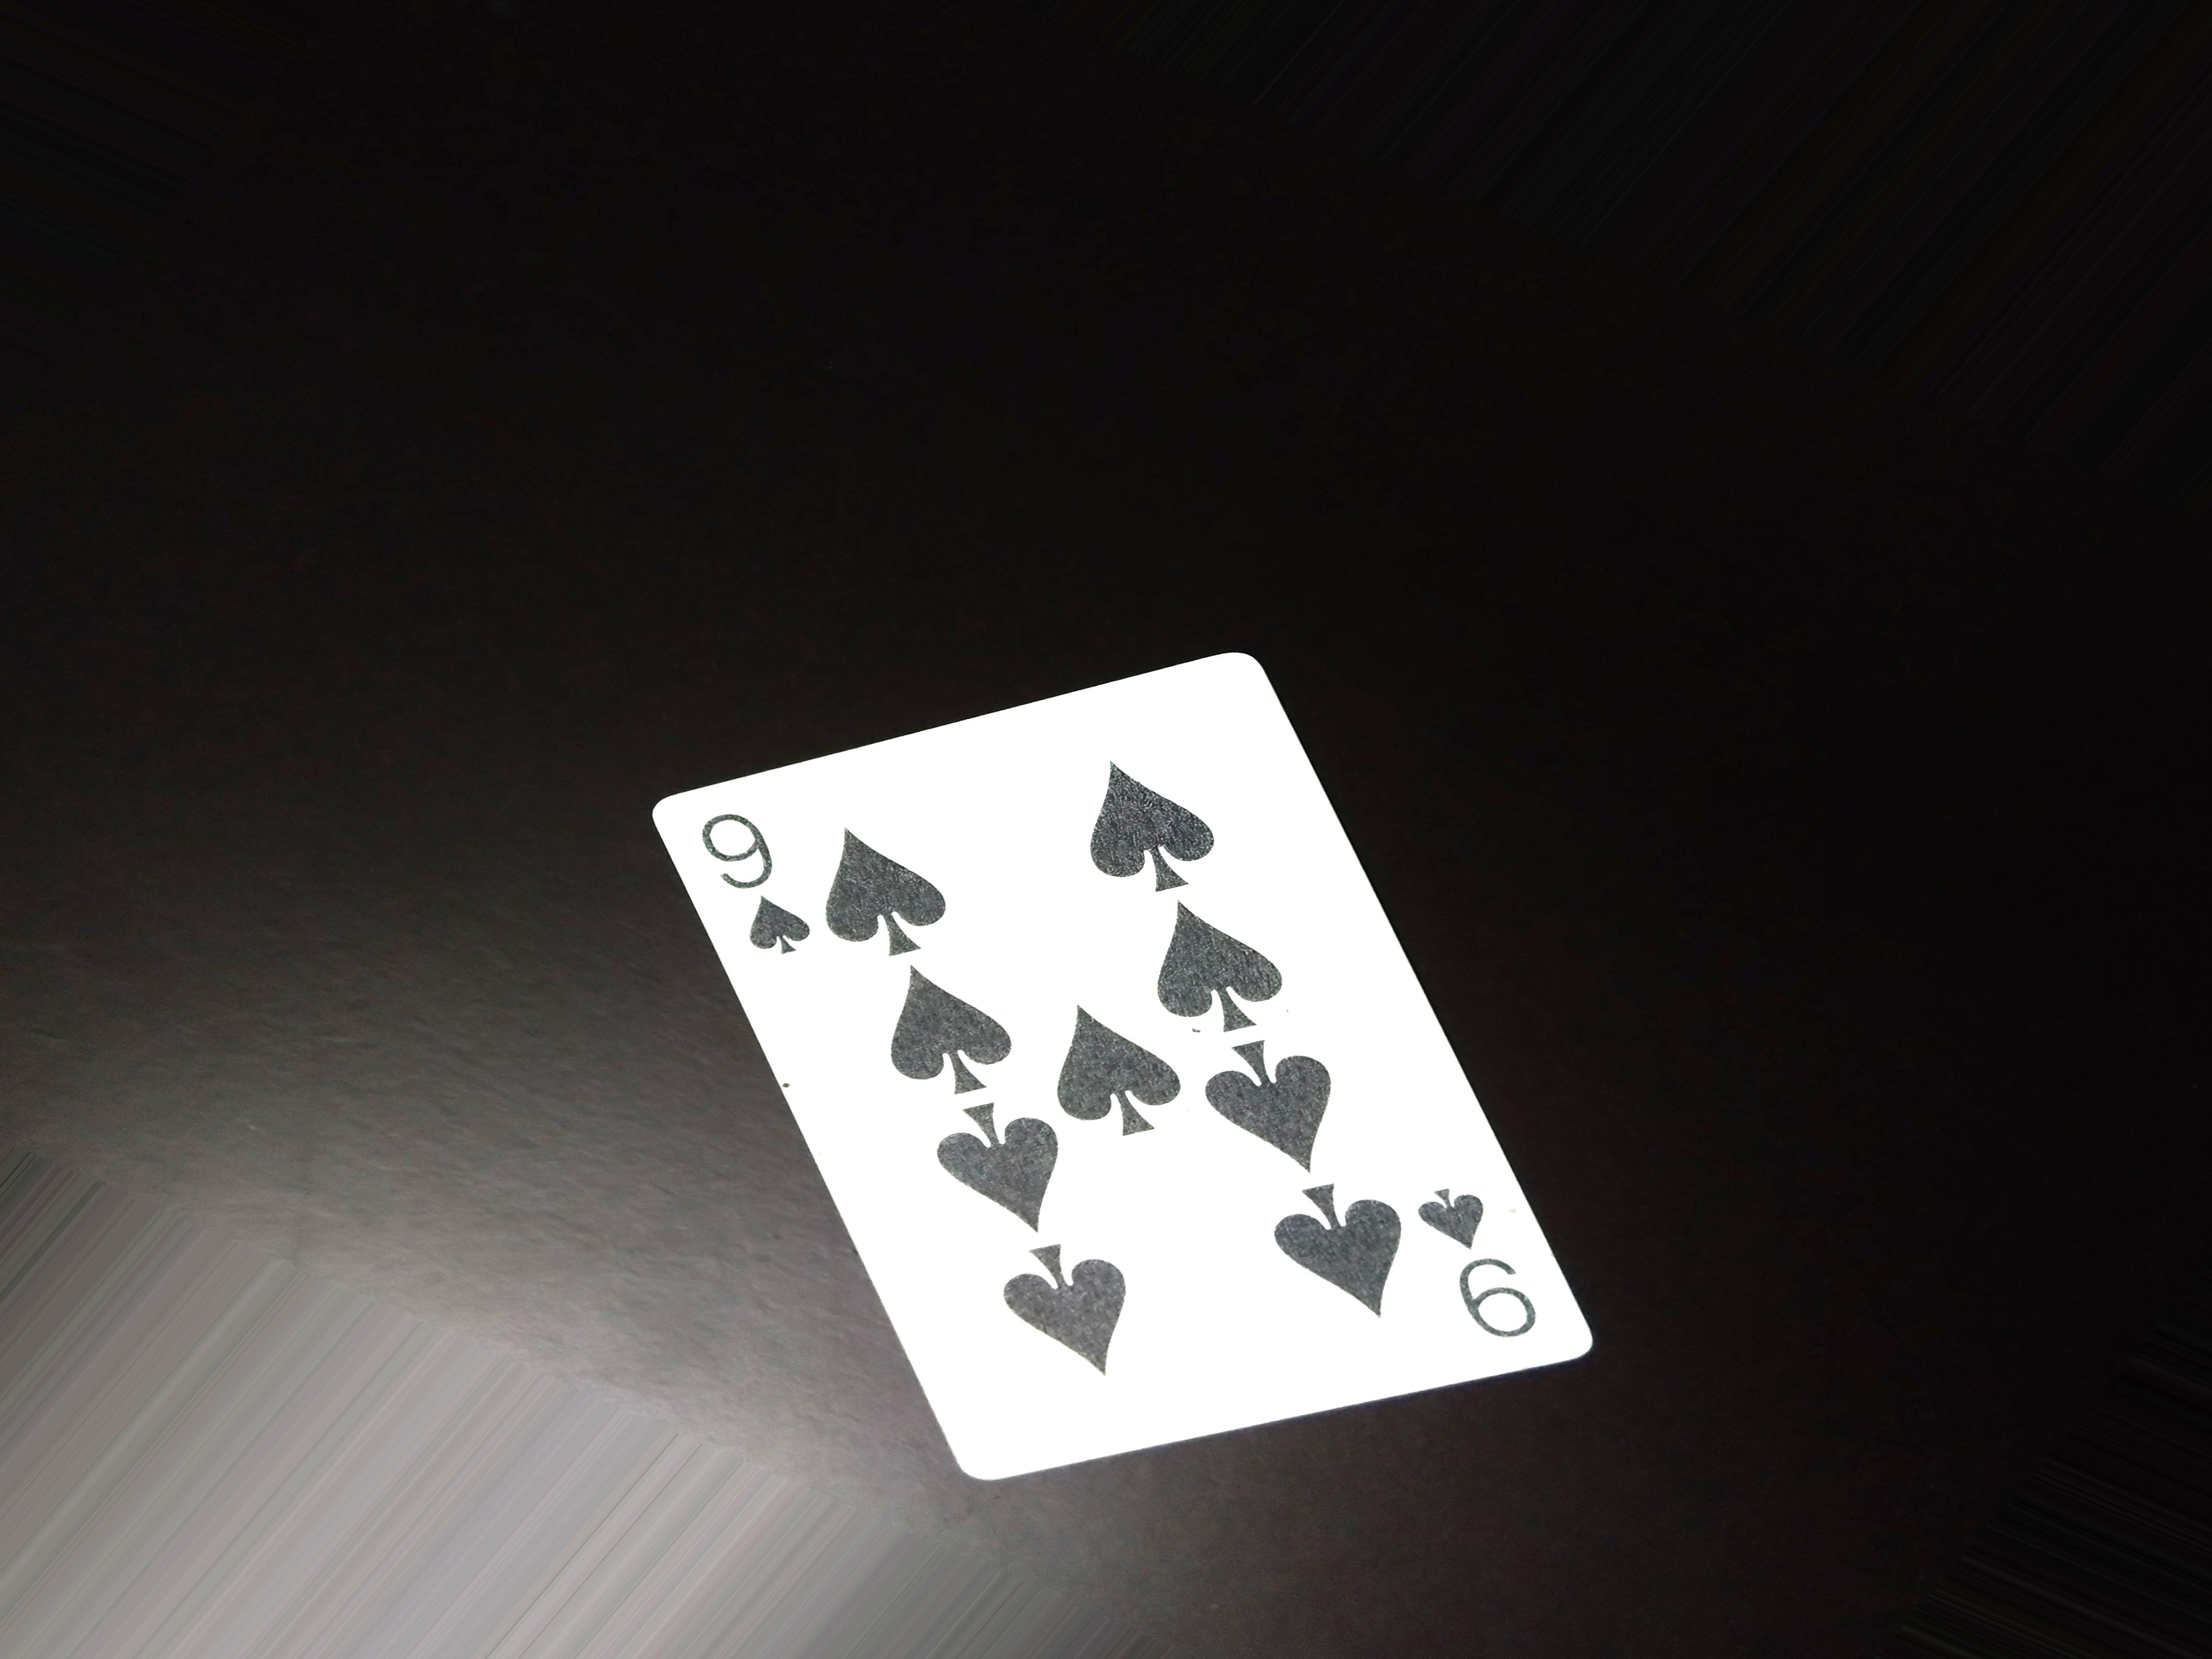9S: (693, 803, 829, 978)
